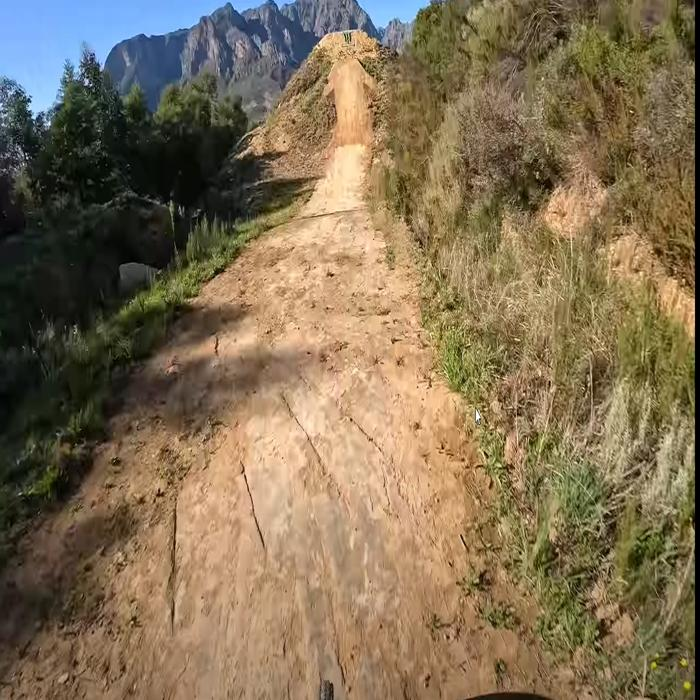turn: (299, 13, 399, 99)
